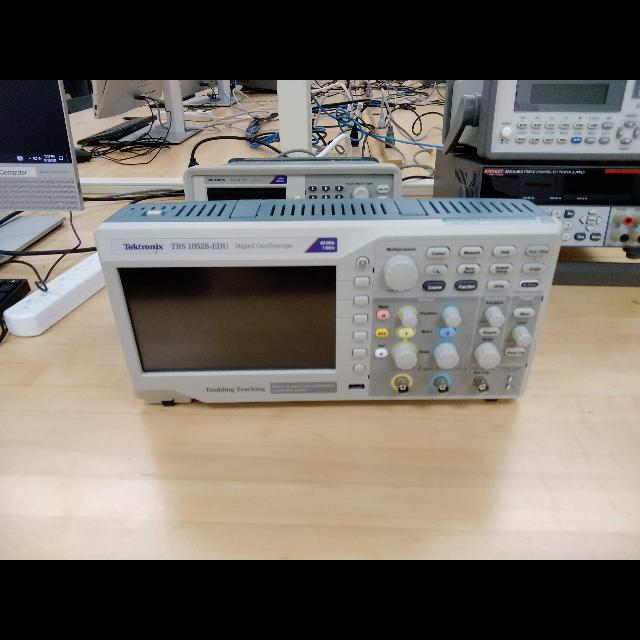Digital-Oscilloscope: (92, 230, 558, 398)
